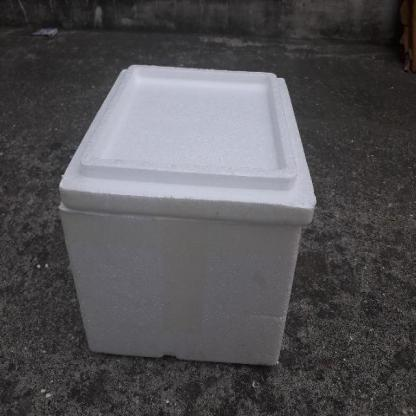Glass Cup: (57, 65, 316, 365), (59, 65, 316, 365)
